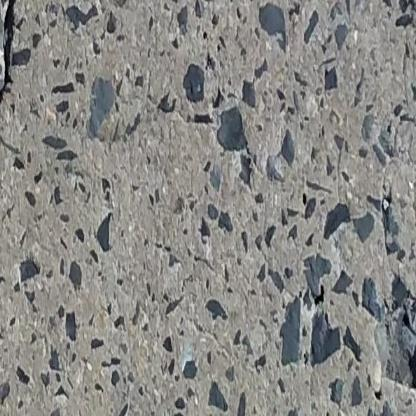Cracks: (0, 0, 25, 240)
